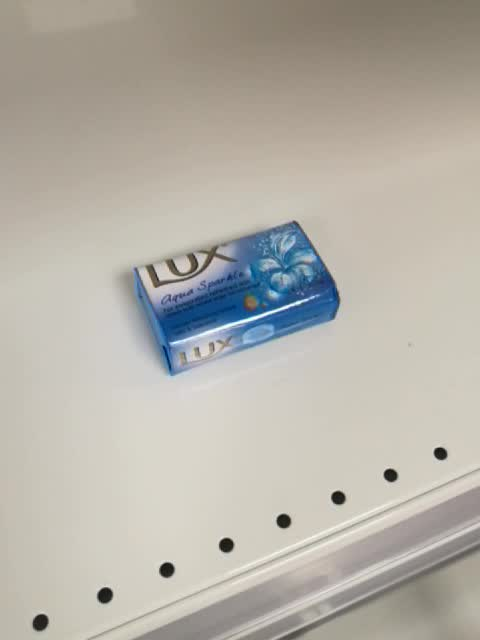soap: (132, 220, 341, 378)
